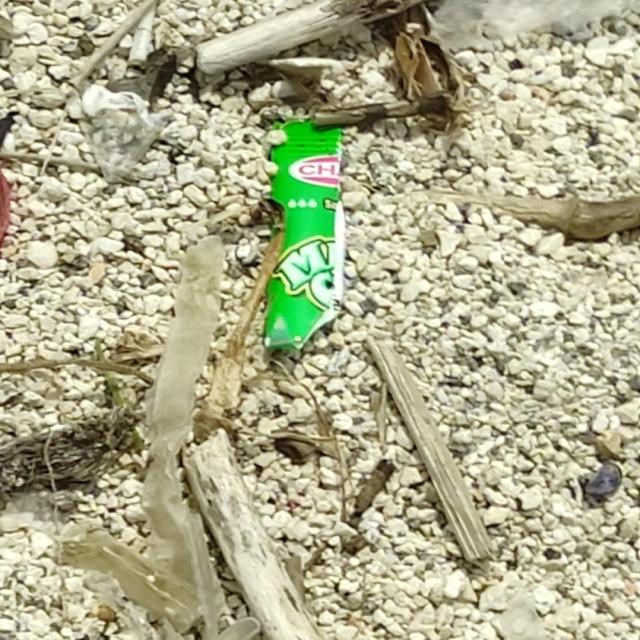plastic_waste: (260, 120, 349, 352)
